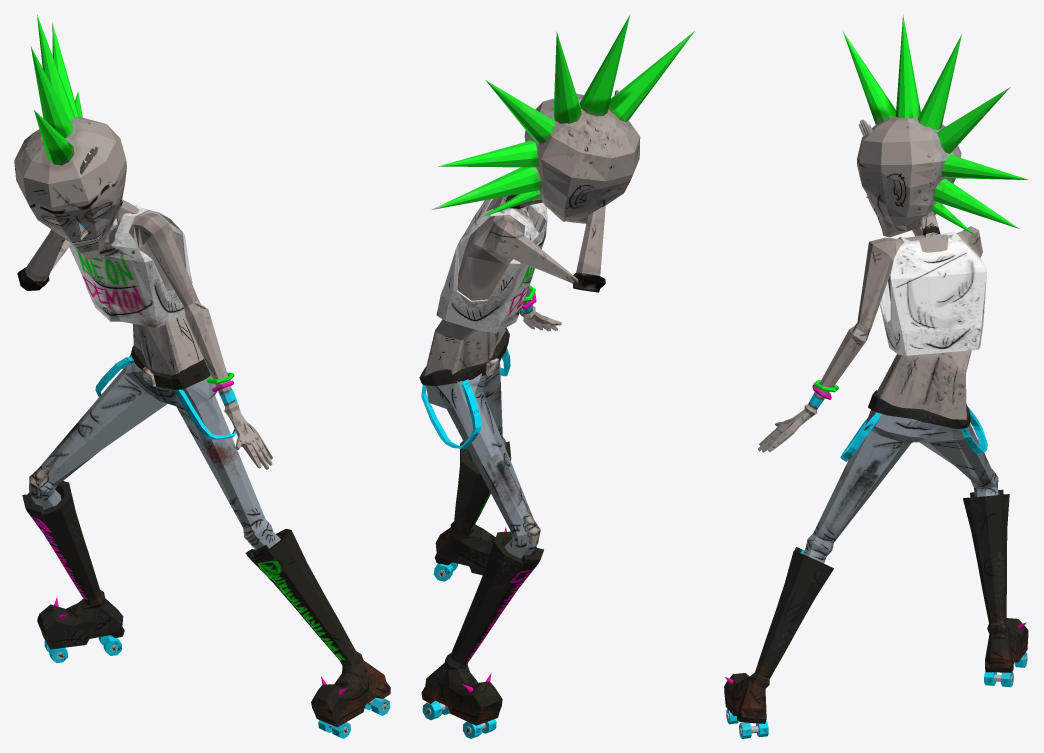
The model's file is punkAnimation_000048.obj.
The picture shows the model from 3 angles, left to right: view 1: azimuth 30°, elevation 25°; view 2: azimuth 150°, elevation 25°; view 3: azimuth 270°, elevation 25°; orthographic projection. The views are drawn at different scales.
Visible parts, largest first — view 1: Cube.004_Cube.003; view 2: Cube.004_Cube.003; view 3: Cube.004_Cube.003.
Boxes of the visible parts, box(x1,y1,x2,y2) form: Cube.004_Cube.003: box(14, 15, 390, 738); Cube.004_Cube.003: box(419, 14, 694, 738); Cube.004_Cube.003: box(724, 14, 1028, 738).
Size of the model in its own units: 3.13 by 6.72 by 3.03.
